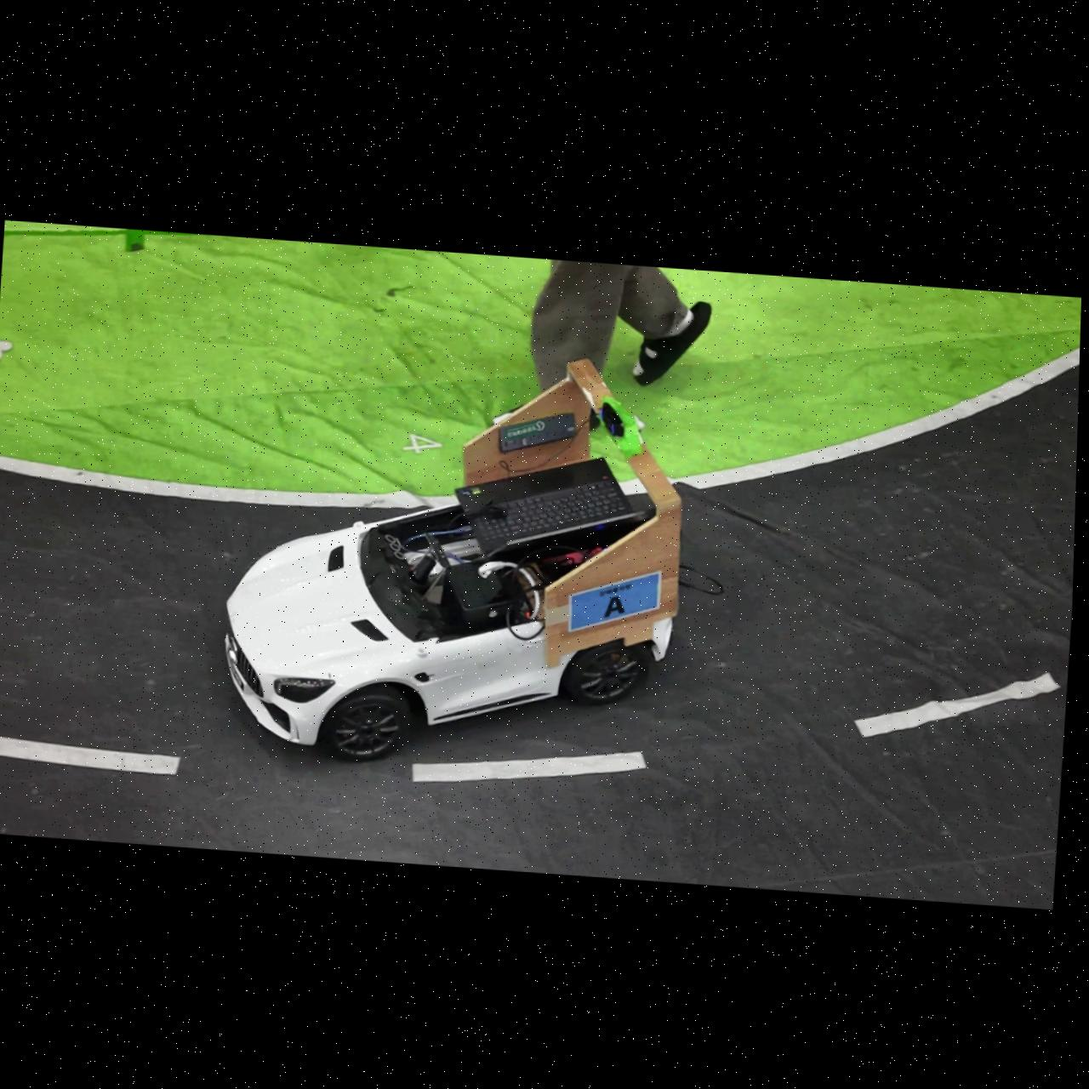broken_line: (855, 673, 1058, 736), (412, 751, 646, 782), (0, 735, 179, 774)
